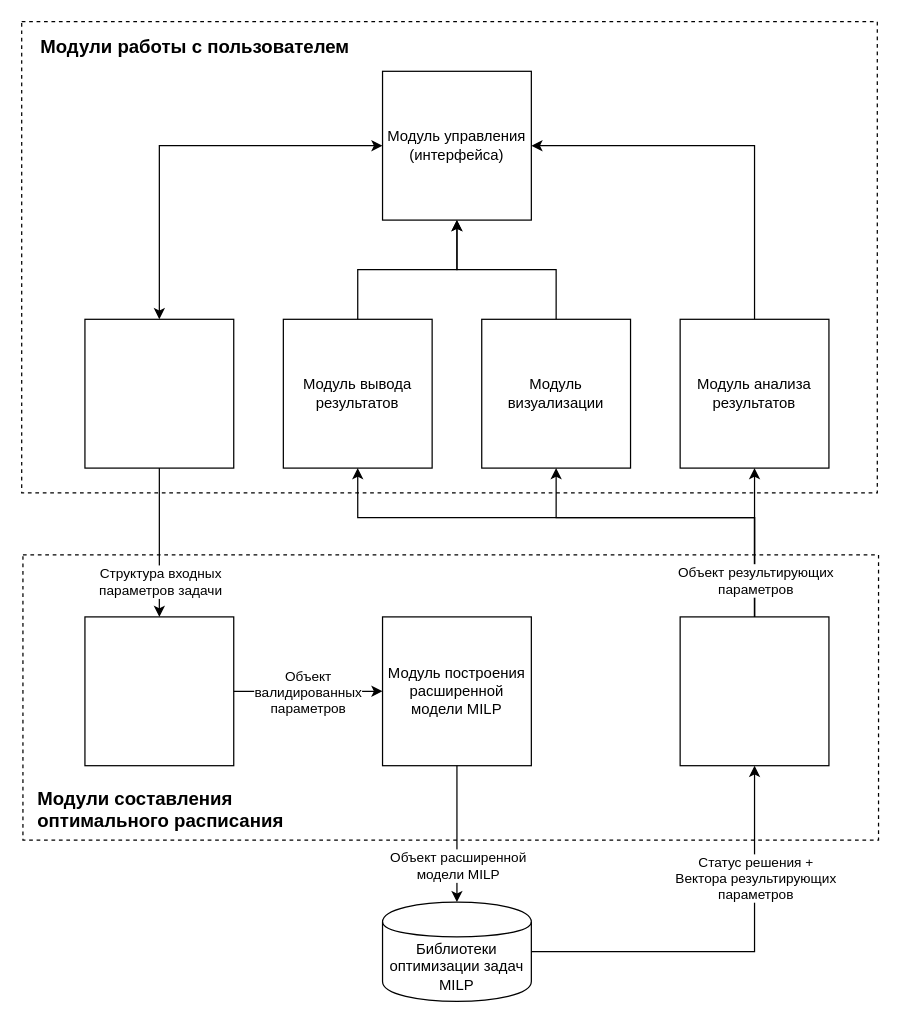
Some shapes in this 900 by 1035 pixel diagram are drawn without their labels. Each missing label, with the centre of its shape:
"Модуль постобработки результатов" belongs at [754,691].
"Модуль управления параметрами" belongs at [159,691].
"Форма ввода" belongs at [159,393].
